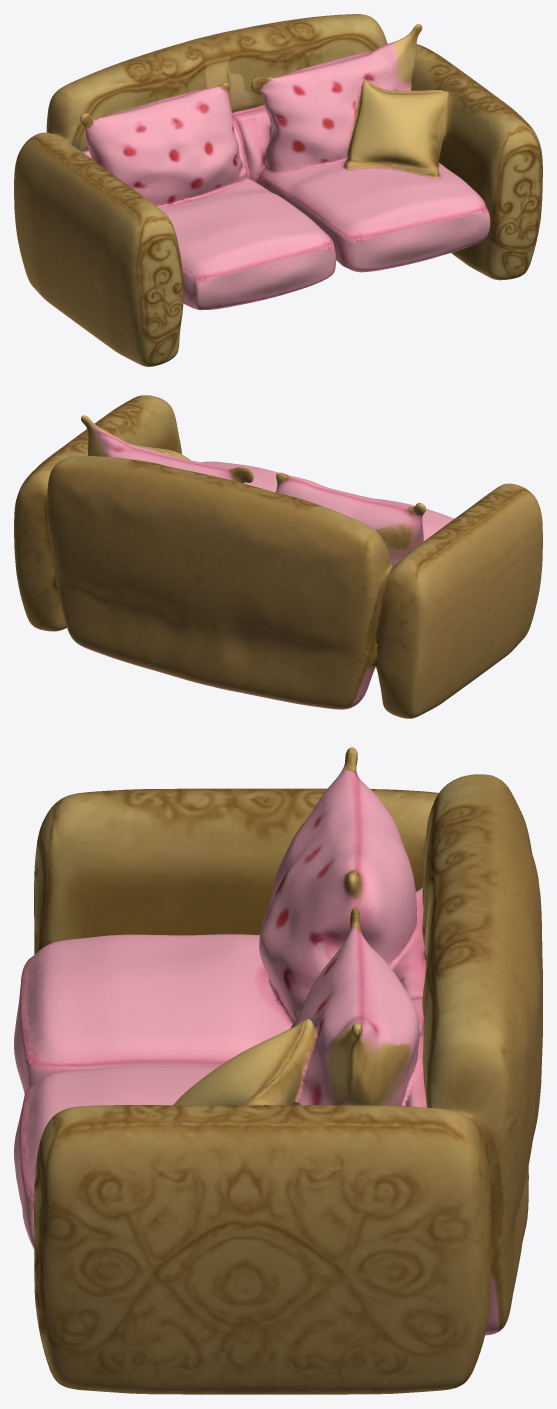
Rendered from Royal_Rose_Divan.glb.
The picture shows the model from 3 angles, top to bottom: view 1: azimuth 30°, elevation 25°; view 2: azimuth 150°, elevation 25°; view 3: azimuth 270°, elevation 25°; orthographic projection. The views are drawn at different scales.
Size of the model in its own units: 1.9 by 0.8636 by 1.17.
1 material, 1 textured.
